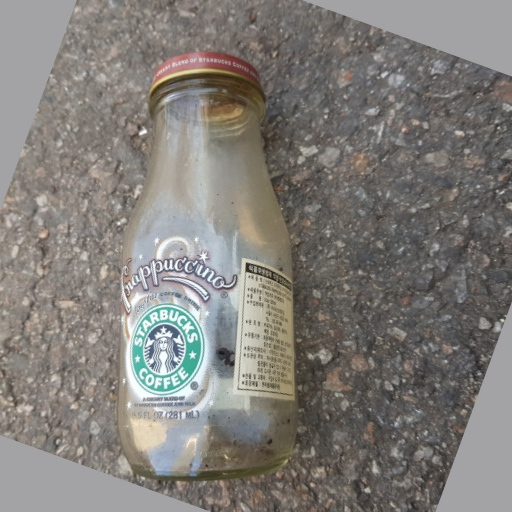Glass_4: (121, 51, 304, 484)
